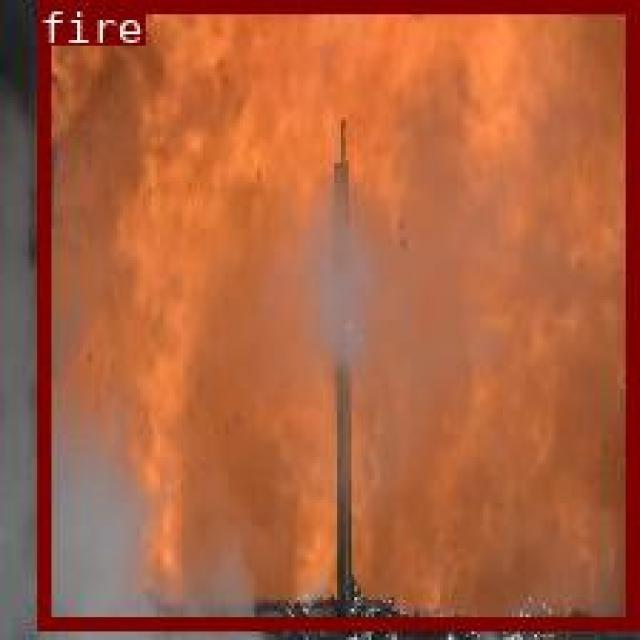fire: (37, 0, 634, 626)
